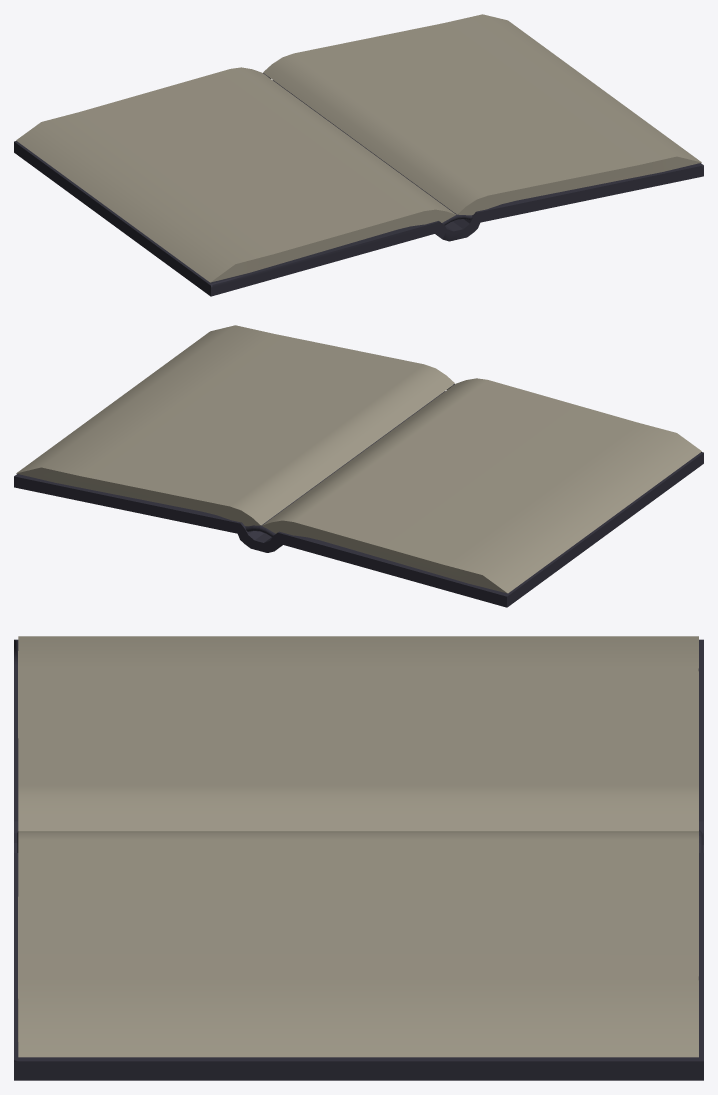
File: Öppen_bok_allt.fbx
3 renders of one model, top to bottom at view 1: azimuth 30°, elevation 25°; view 2: azimuth 150°, elevation 25°; view 3: azimuth 270°, elevation 25°, orthographic. The views are drawn at different scales.
Visible parts, largest first — view 1: pPlane1, pCube1; view 2: pPlane1, pCube1; view 3: pPlane1, pCube1.
Part boxes in pixels (box(x1,y1,x2,y2)): pPlane1: box(16, 14, 701, 282); pCube1: box(14, 80, 703, 296); pPlane1: box(16, 325, 701, 593); pCube1: box(14, 391, 703, 607); pPlane1: box(18, 636, 698, 1057); pCube1: box(14, 639, 703, 1080).
Bounding box in the file's own units: 5.16 × 0.3615 × 3.57.
